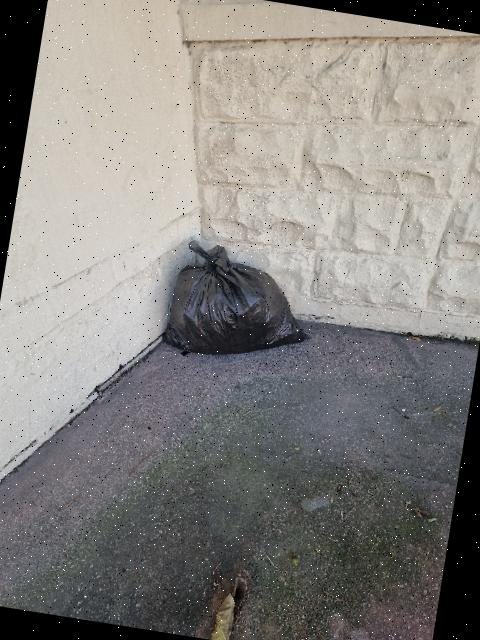Mixed -Black-: (165, 240, 308, 354)
